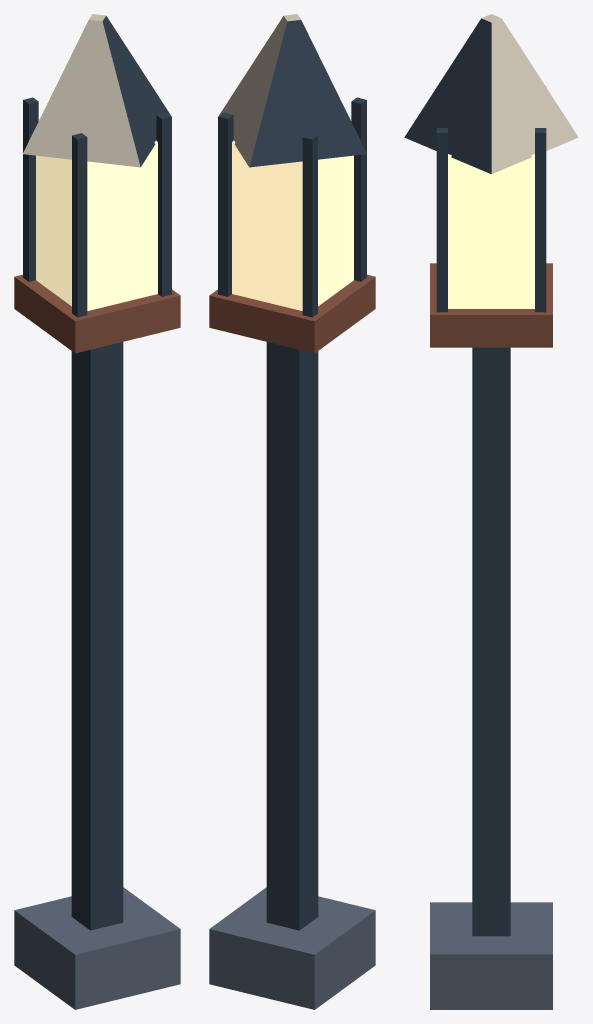
Rendered from lamp-post.glb.
3 renders of one model, left to right at view 1: azimuth 30°, elevation 25°; view 2: azimuth 150°, elevation 25°; view 3: azimuth 270°, elevation 25°, orthographic.
Visible parts, largest first — view 1: lamp-post; view 2: lamp-post; view 3: lamp-post.
Part boxes in pixels (x1,y1,x2,y2): lamp-post: (14,14,180,1009); lamp-post: (209,14,375,1009); lamp-post: (404,14,578,1009).
Bounding box in the file's own units: 0.6816 × 4.16 × 0.6816.
